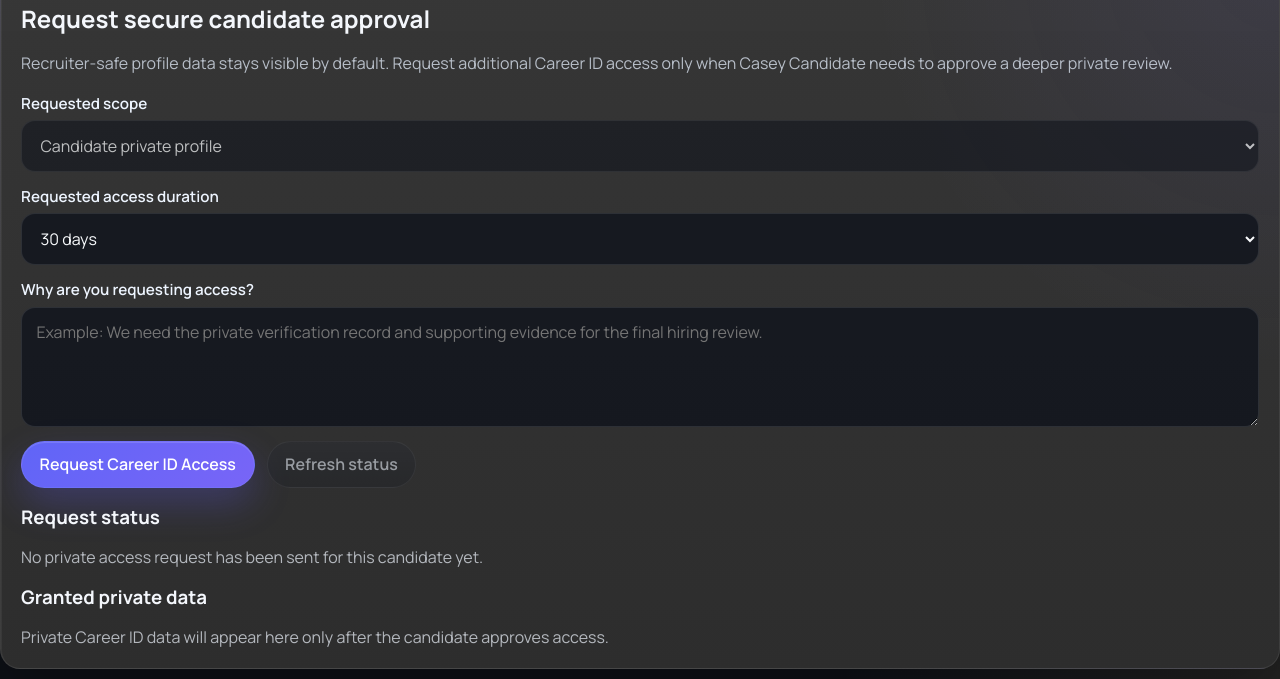
Test: RecruiterAccessRequestPanel › posts a new access request and refreshes recruiter status
The image size is (1280, 679).
Expected: the text "No private access request has been sent" is shown, [21,546,483,568]
Replace the text in the text box labelled "Why are you requesting access?" with "Need final-stage verification review." at coordinates (640, 367), box [21,307,1259,427]
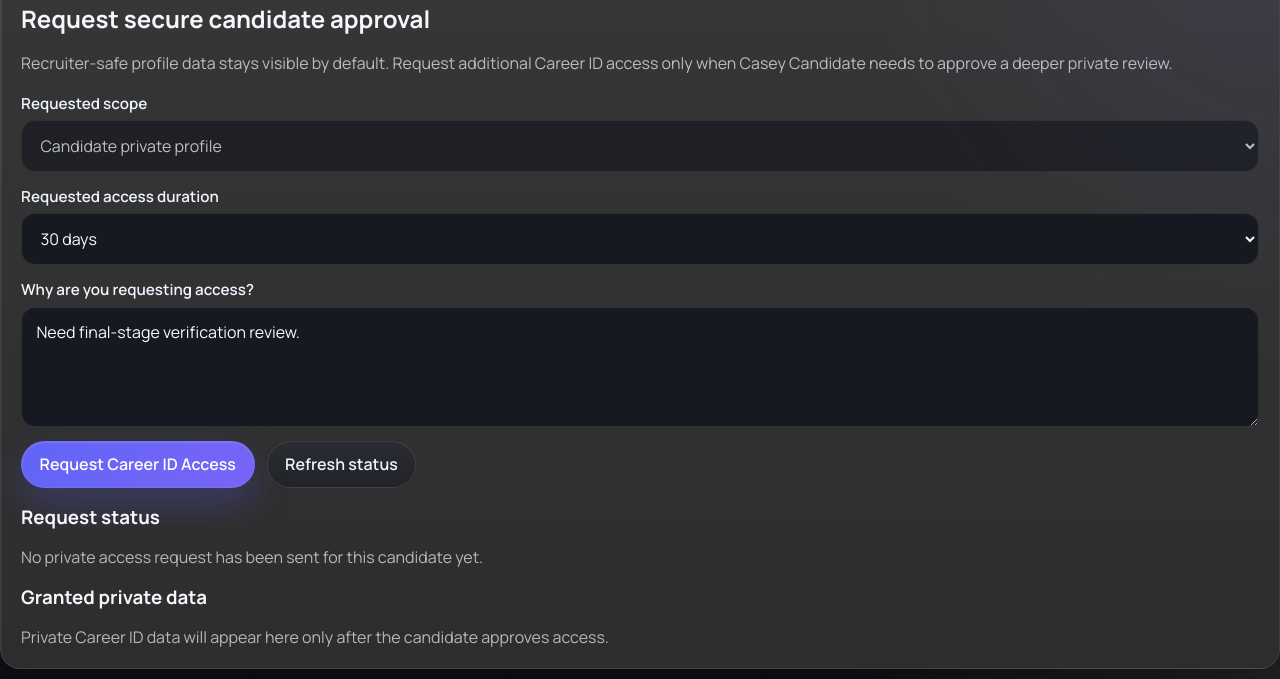
Click the button "Request Career ID Access".
click(138, 464)  # box [21,441,254,488]
(page scrolled)
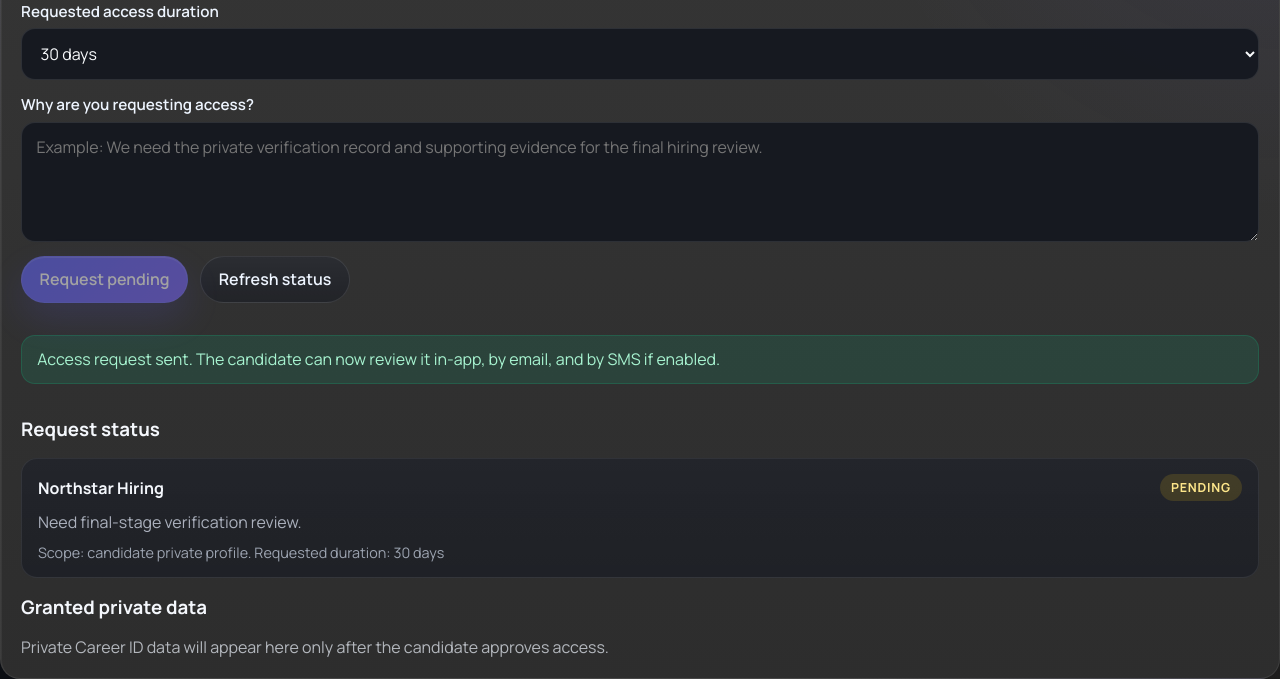
Expected: the text "Access request sent" is shown, [37,348,720,370]
Expected: the text "Northstar Hiring" is shown, [38,477,164,499]
